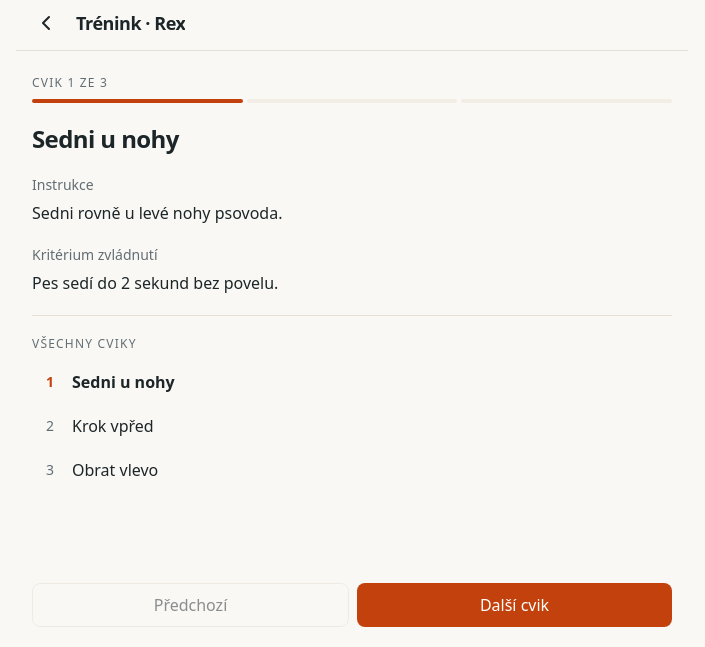
Test case: TrainingWalkthrough › changes 'Další cvik' to 'Dokončit' link on the last exercise
Advance to last exercise (3/3)
Click the button "Další cvik" at point(514, 605), box top-left (357, 583), bottom-right (672, 627)
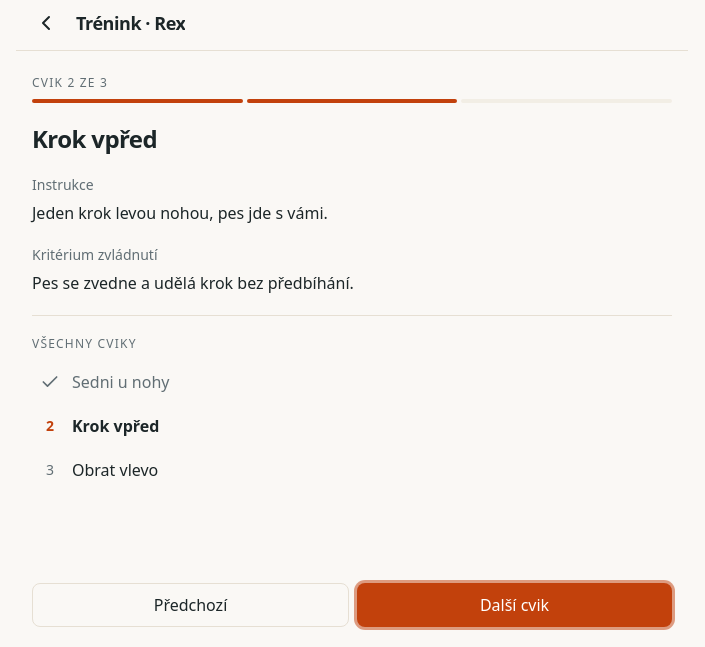
Click the button "Další cvik" at point(514, 605), box top-left (357, 583), bottom-right (672, 627)
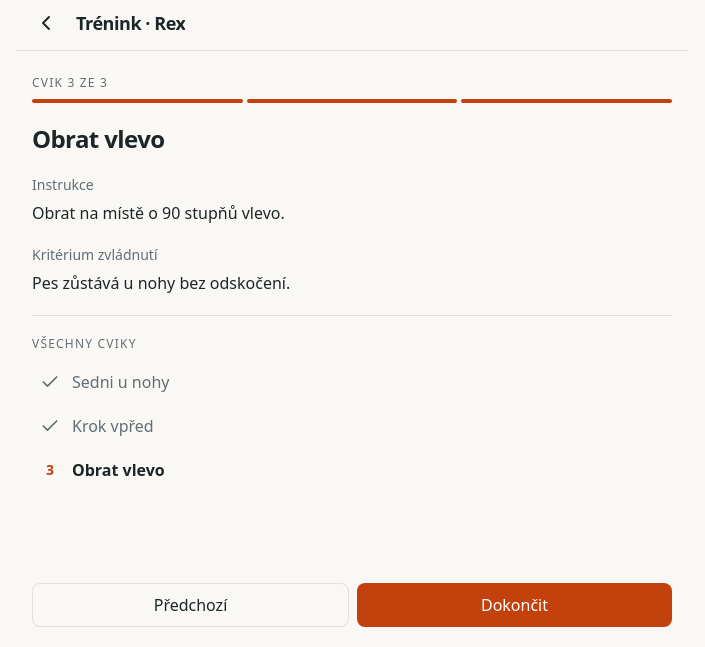
expect the text "CVIK 3 ZE 3" is shown: met, box top-left (32, 74), bottom-right (108, 91)
expect the heading "Obrat vlevo" is shown: met, box top-left (32, 122), bottom-right (164, 155)
expect the button "Další cvik" is gone: met
